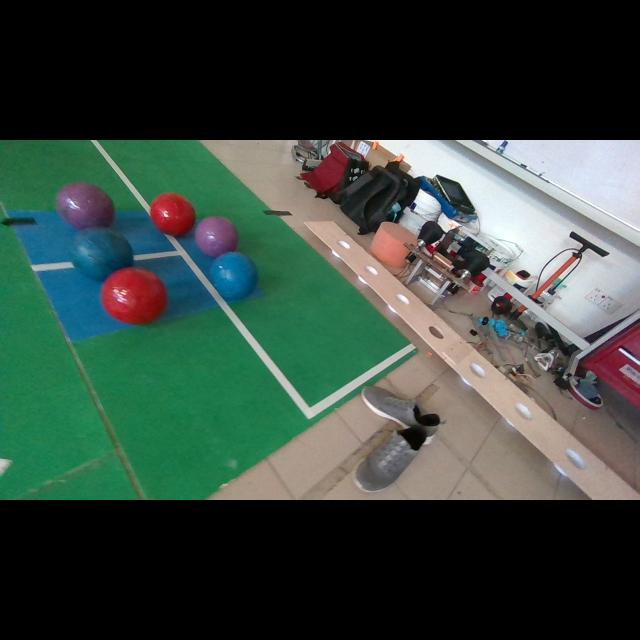B: (71, 229, 132, 279), (210, 252, 258, 301)
P: (56, 182, 115, 230), (195, 216, 239, 258)
R: (101, 269, 168, 324), (150, 192, 195, 236)
